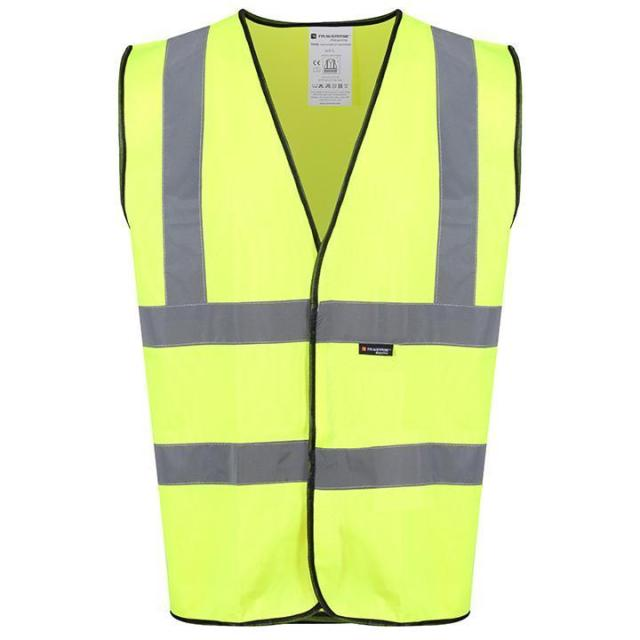Vest: (114, 10, 524, 625)
